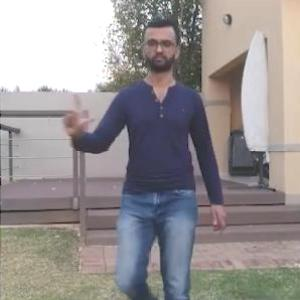land_hand: (60, 87, 104, 142)
